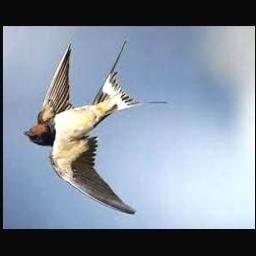Swallow: (25, 41, 167, 216)
